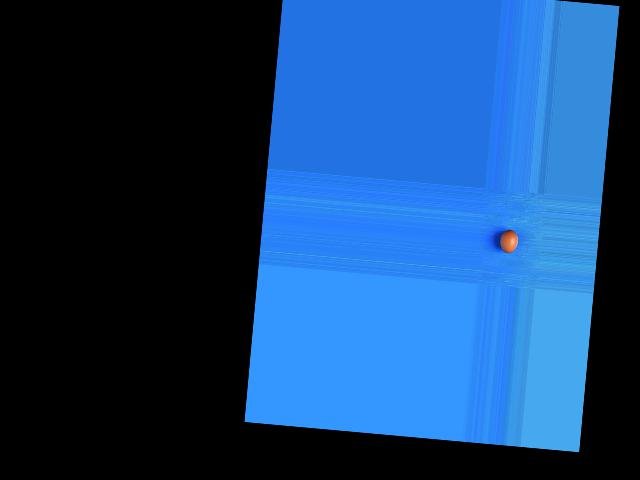egg: (498, 229, 519, 253)
